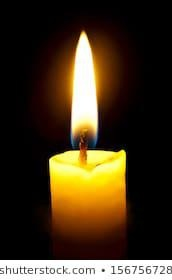fire: (67, 25, 99, 149)
